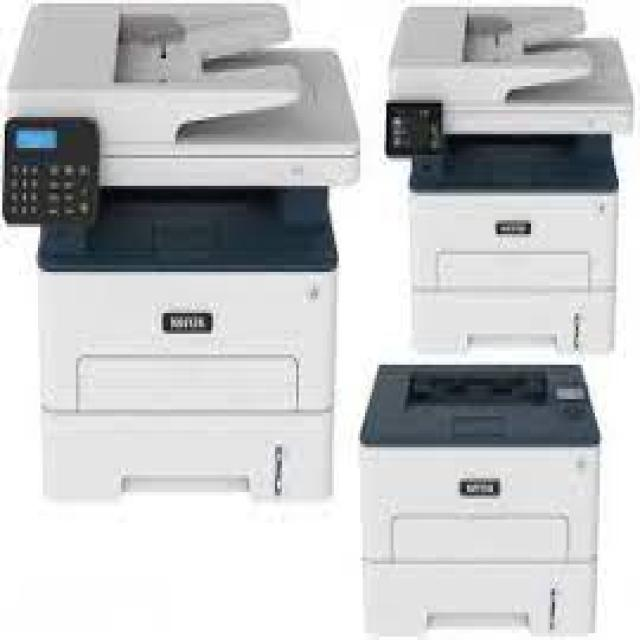printer: (0, 0, 365, 526), (355, 0, 638, 364), (346, 342, 617, 640)
